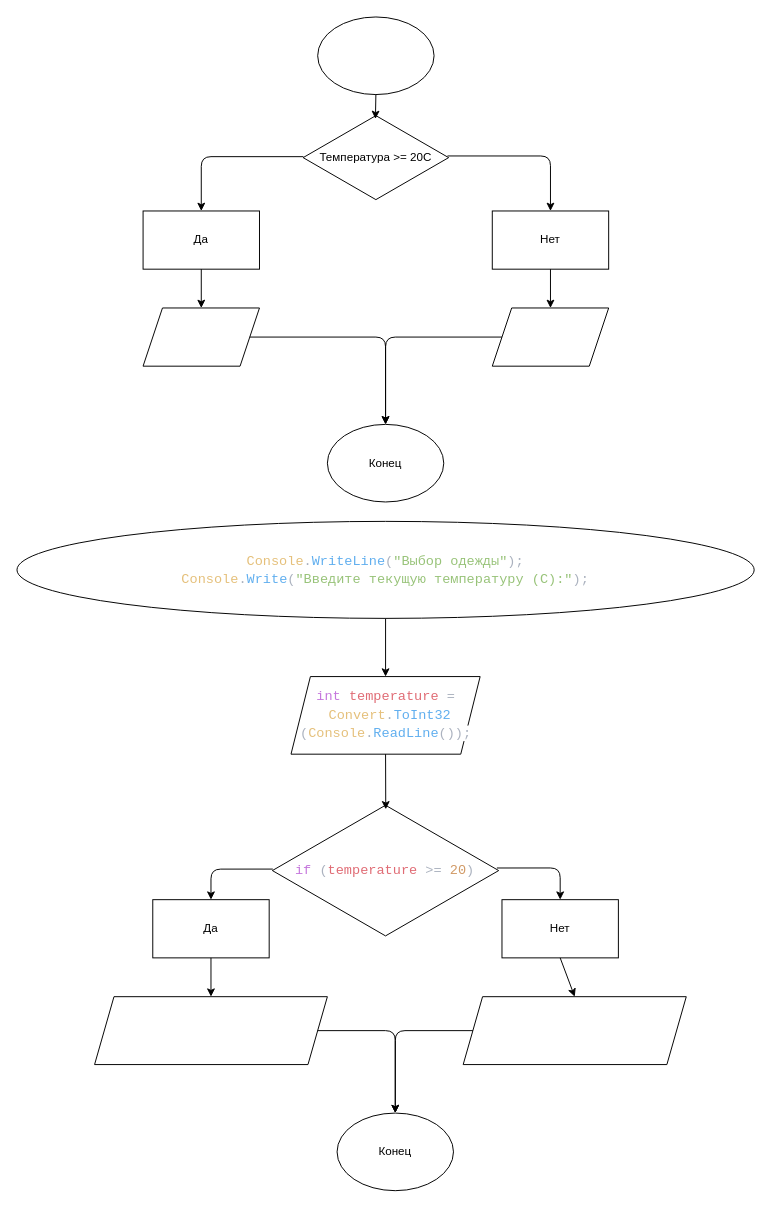
Some shapes in this 771 by 1208 pixel diagram are drawn without their labels. The box of each missing label's shape, as (x1, y1, x2, y2) in pixels:
Console . WriteLine ( "Наденьте лёгкую одежду" );: (94, 996, 327, 1065)
Console . WriteLine ( "Наденьте тёплую одежду" );: (462, 996, 686, 1065)
Лёгкая одежда: (142, 307, 259, 366)
Начало: (317, 16, 434, 95)
Тёплая одежда: (491, 307, 609, 366)
